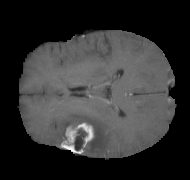Edema: (48, 107, 114, 153)
EnhancingTumors: (66, 119, 93, 148)
Necrosis: (66, 119, 93, 148)
